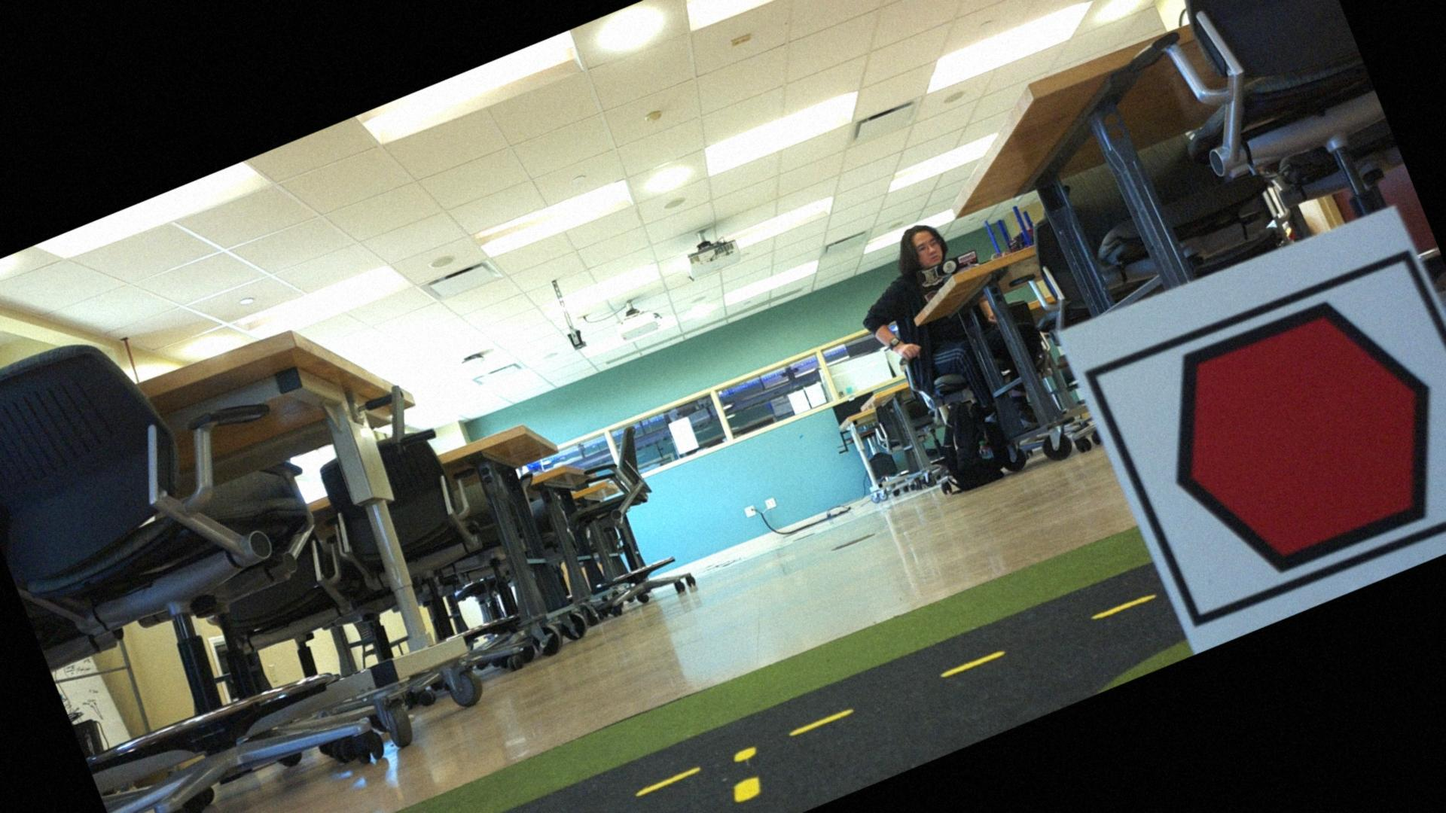stop: (1088, 251, 1445, 630)
yellowline: (169, 577, 1151, 812), (710, 742, 778, 811)
